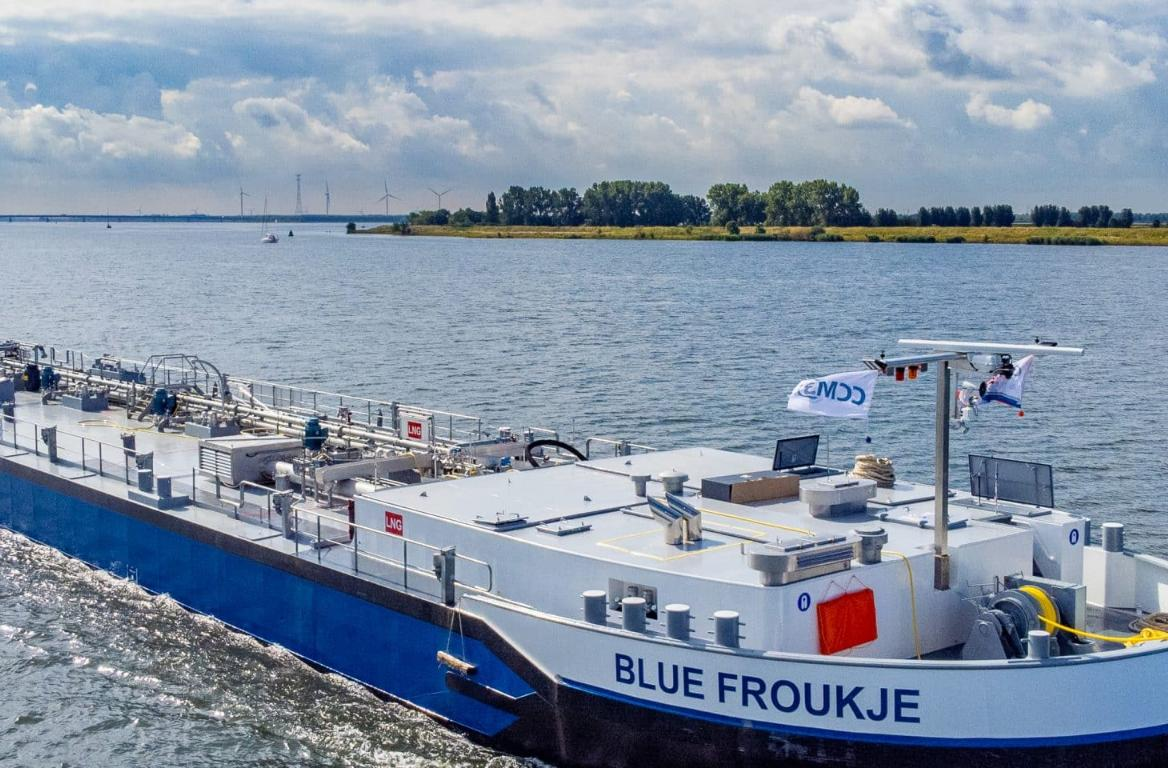Ship: (0, 189, 1168, 768)
